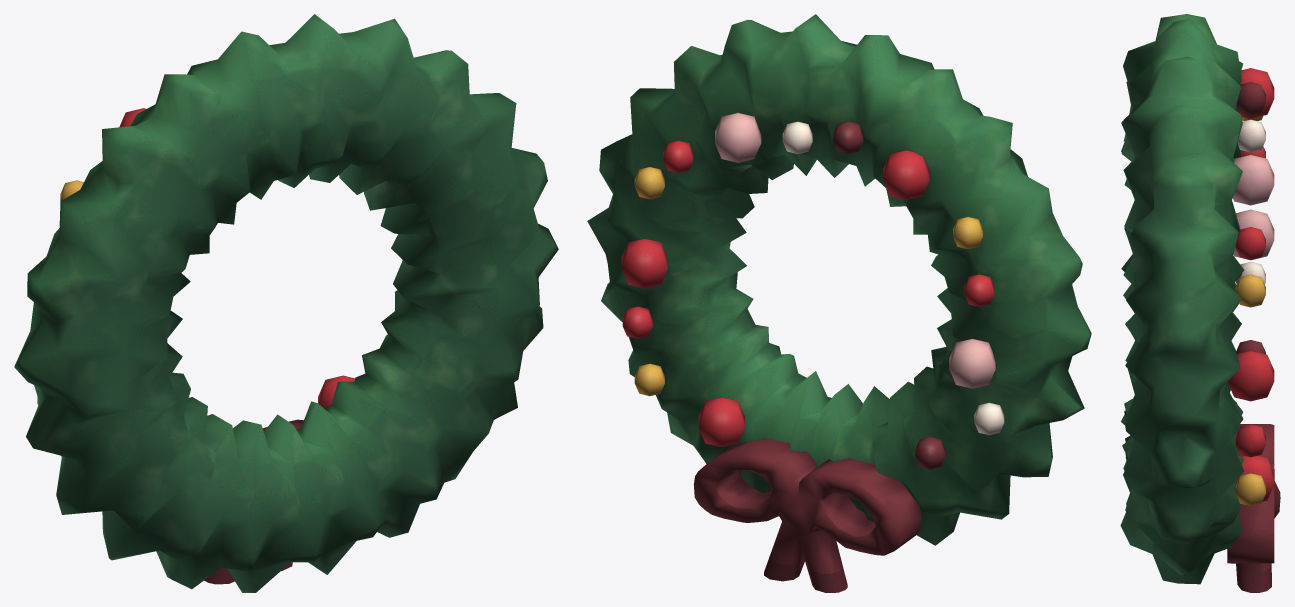
Rendered from wreath.glb.
3 renders of one model, left to right at view 1: azimuth 30°, elevation 25°; view 2: azimuth 150°, elevation 25°; view 3: azimuth 270°, elevation 25°, orthographic. The views are drawn at different scales.
Parts seen in each view (by area): view 1: Ring, Berries; view 2: Ring, Bow, Berries; view 3: Ring, Berries, Bow.
Part boxes in pixels (bbox=[...]): Ring: bbox=[14, 14, 558, 592]; Berries: bbox=[37, 108, 355, 408]; Ring: bbox=[587, 14, 1091, 545]; Bow: bbox=[693, 438, 921, 592]; Berries: bbox=[621, 112, 1004, 469]; Ring: bbox=[1120, 14, 1244, 584]; Berries: bbox=[1227, 68, 1274, 506]; Bow: bbox=[1227, 424, 1280, 592].
Bounding box in the file's own units: 0.8547 × 0.8751 × 0.2369.
1 material, 1 textured.
